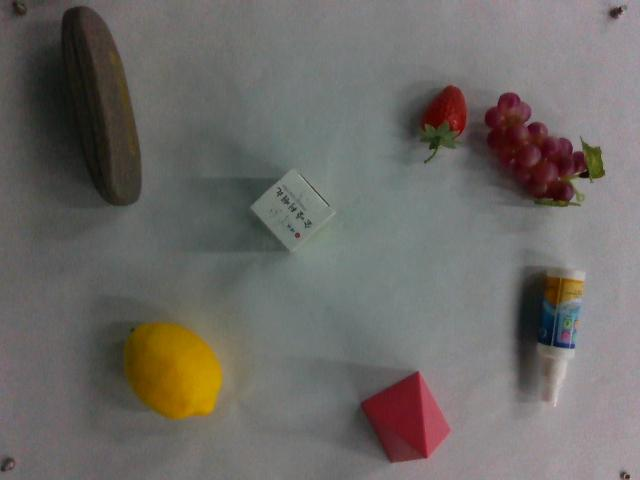carton: (246, 167, 333, 253)
detergent: (528, 261, 585, 408)
glassescase: (59, 7, 144, 204)
grape: (486, 87, 604, 205)
lemon: (124, 315, 223, 422)
pyramid: (354, 367, 455, 466)
strawberry: (417, 85, 467, 165)
